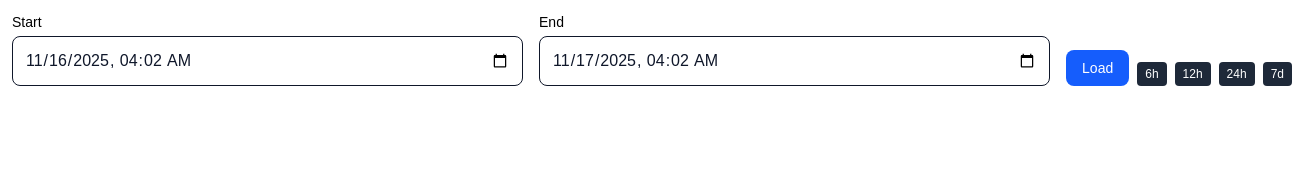
Test: DateRangeSelector – Integration › shows error when end <= start
Replace the text in the field labelled "Start" with "2025-01-01T10:00" at x=268, y=61, box [12,36,523,86]
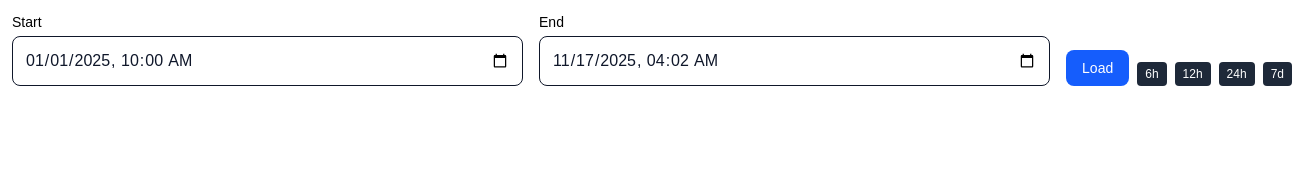
Replace the text in the field labelled "End" with "2025-01-01T09:00" at x=794, y=61, box [539,36,1050,86]
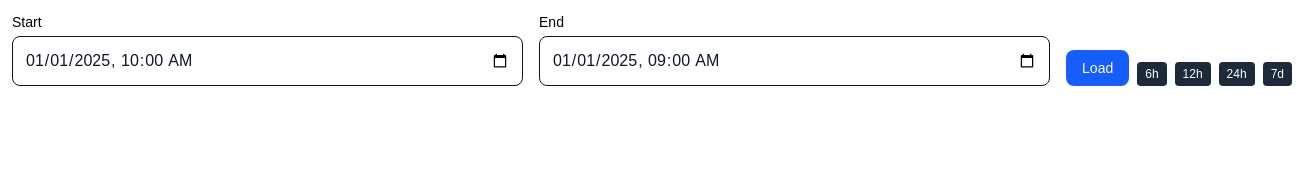
Click the button "Load" at x=1098, y=68, box [1066,50,1129,86]
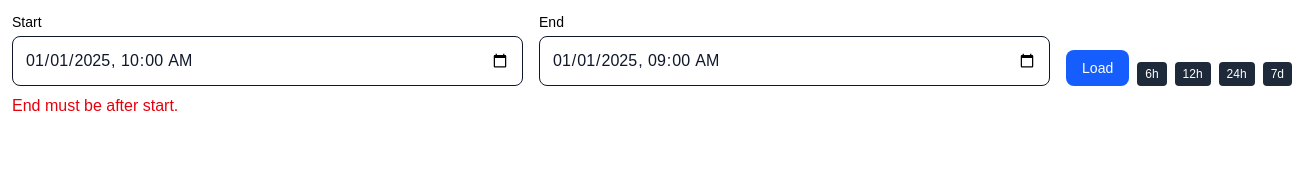
Check: the text "End must be after start." is shown, box [12,97,178,114]
